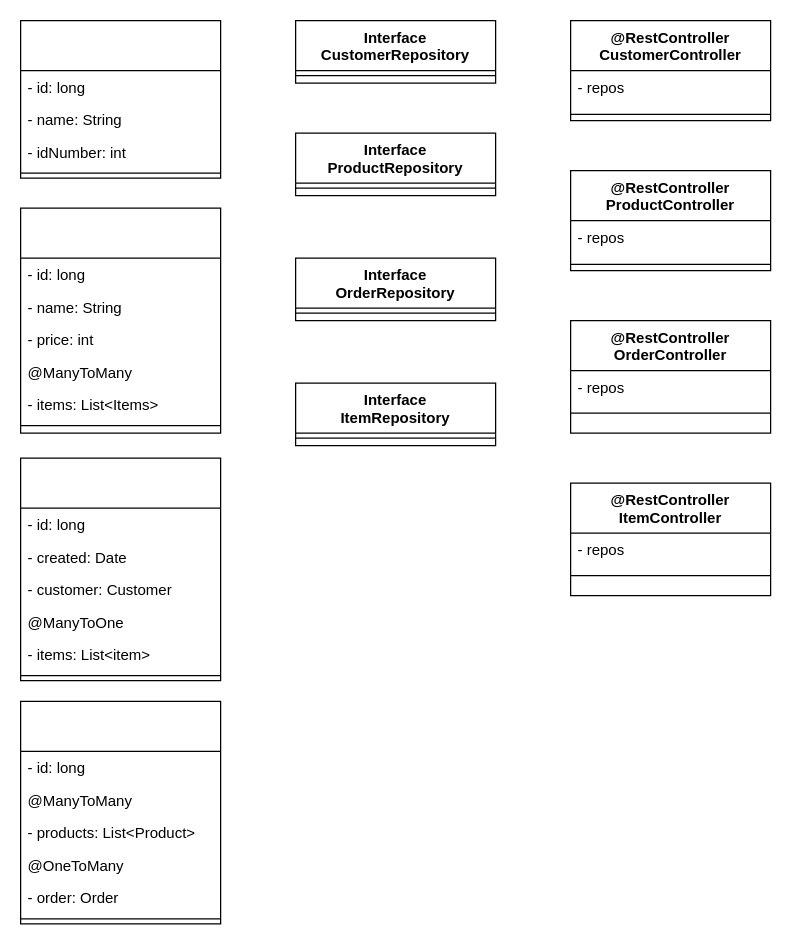
This 791x944 diagram has some shape labels left out. The shapes that lost their labels are listed below. From the top down, each one's box as (x1, y1, x2, y2) in pixels, then its label:
(19, 19, 221, 178): @Entity Customer
(19, 207, 221, 433): @Entity Product
(19, 457, 221, 681): @Entity Order
(19, 700, 221, 924): @Entity OrderProduct
